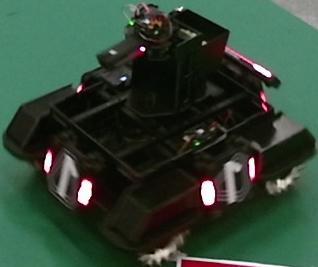armor_1: (44, 151, 93, 204), (201, 158, 255, 206)
